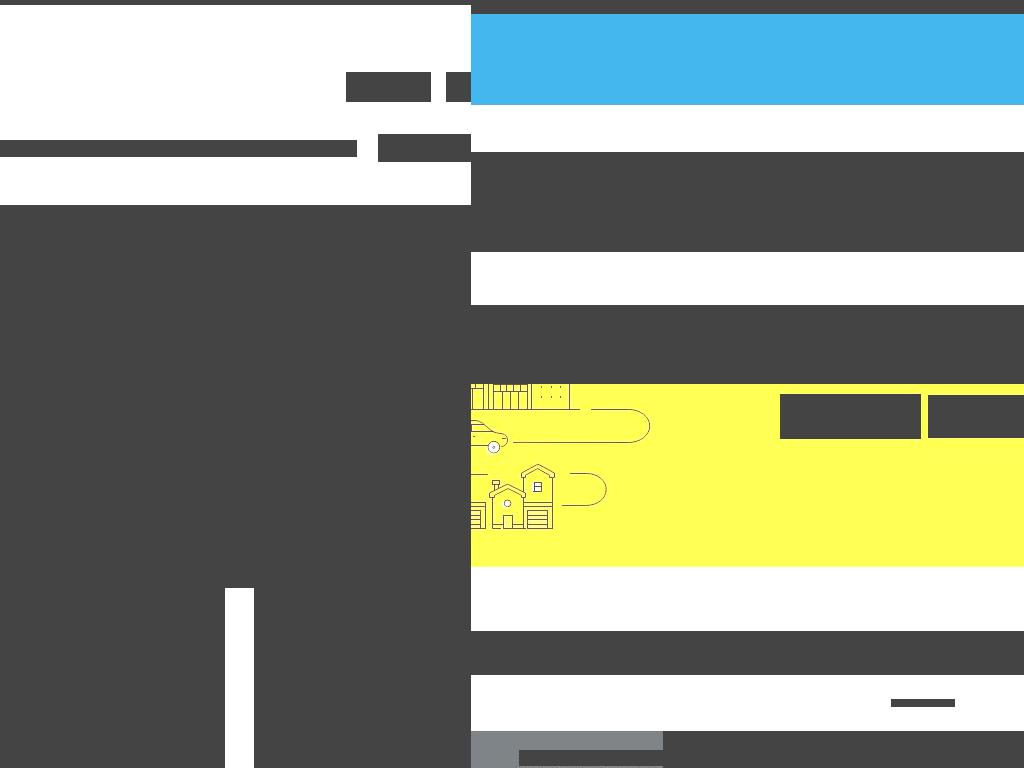button: (0, 527, 225, 768), (254, 527, 471, 768), (780, 394, 921, 439), (11, 433, 145, 468), (928, 395, 1024, 438), (16, 140, 191, 157), (191, 140, 357, 157), (346, 72, 431, 102), (446, 72, 471, 102)
field: (378, 134, 471, 162)
heading: (471, 631, 1024, 675), (285, 732, 471, 768), (0, 732, 162, 768)
image: (471, 305, 1024, 384), (0, 528, 224, 693), (255, 528, 471, 693), (891, 699, 955, 707)
link: (0, 384, 361, 414), (0, 717, 194, 731), (813, 731, 932, 753), (285, 717, 471, 731), (954, 750, 1024, 766)
text: (0, 384, 471, 588), (0, 205, 471, 384), (471, 152, 1024, 252), (663, 731, 1024, 768), (519, 750, 955, 766), (669, 731, 813, 753), (42, 441, 114, 460)
